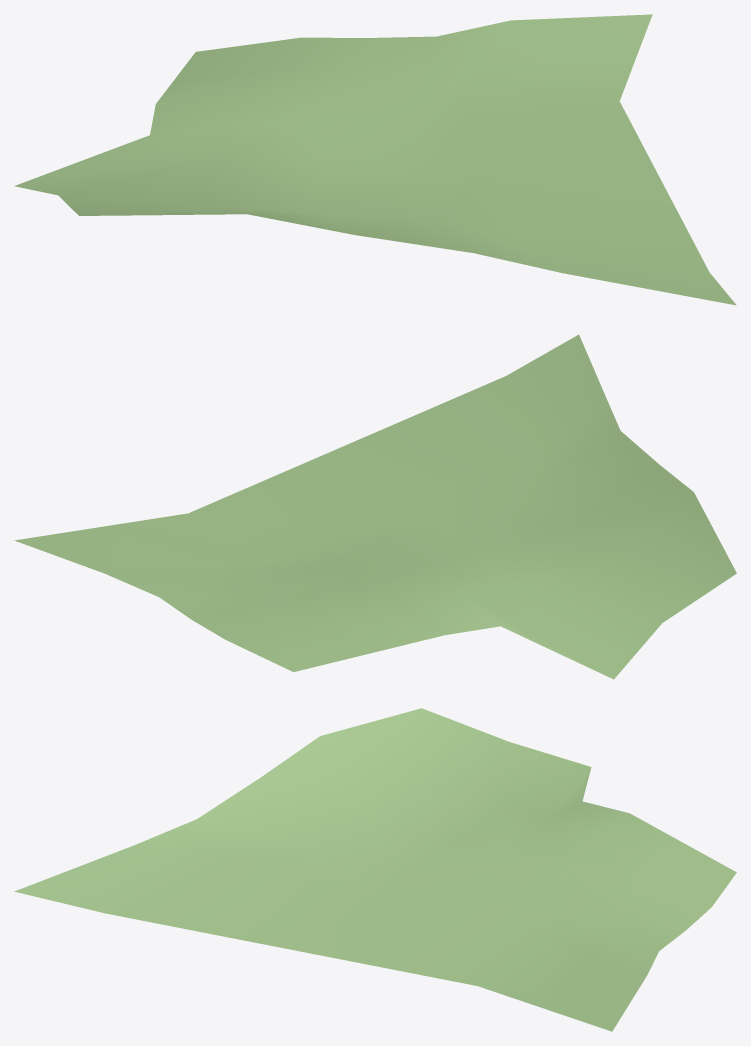
The model's file is level_115.fbx.
The picture shows the model from 3 angles, top to bottom: view 1: azimuth 30°, elevation 25°; view 2: azimuth 150°, elevation 25°; view 3: azimuth 270°, elevation 25°; orthographic projection. The views are drawn at different scales.
Visible parts, largest first — view 1: loc_115; view 2: loc_115; view 3: loc_115.
Boxes of the visible parts, left/top/right/bottom form: loc_115: left=14, top=14, right=736, bottom=305; loc_115: left=14, top=334, right=736, bottom=679; loc_115: left=14, top=708, right=736, bottom=1031.
Bounding box in the file's own units: 33.49 × 3.35 × 36.2.
